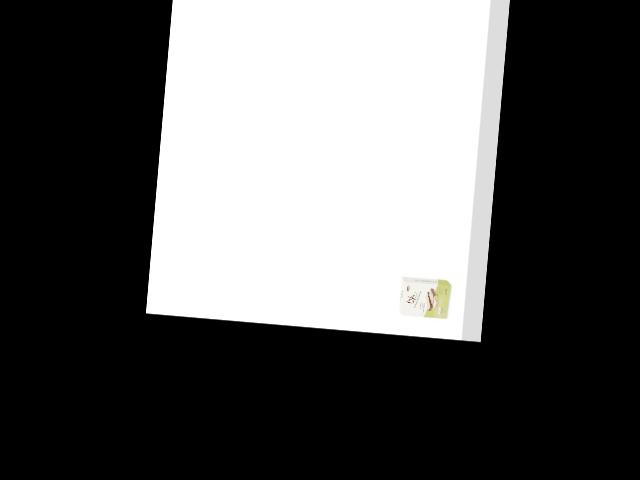chocolate: (397, 273, 454, 324)
